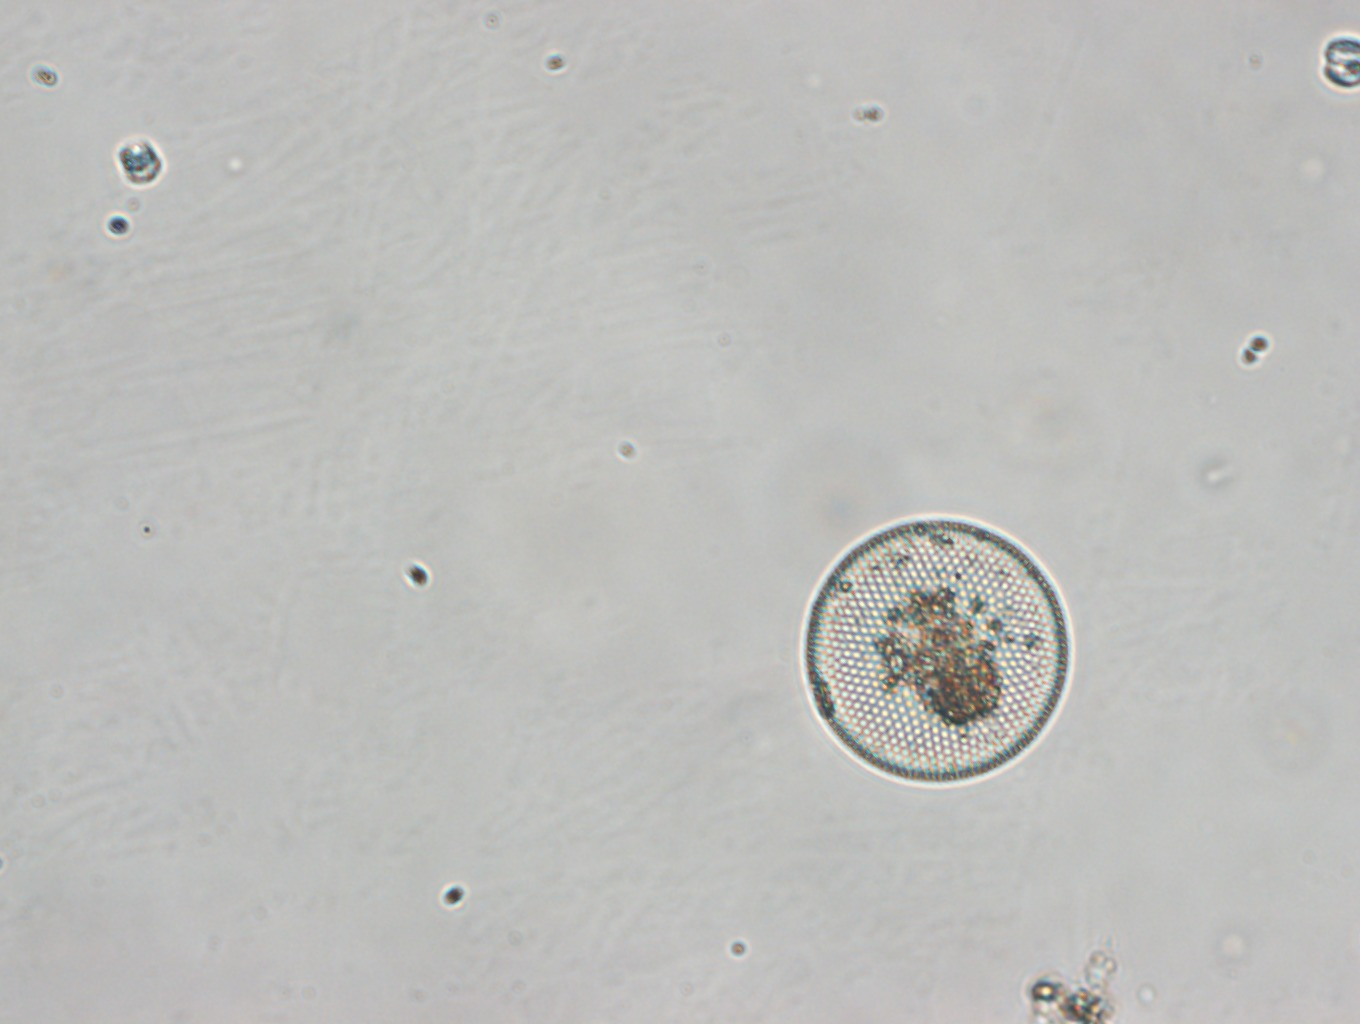coscinodiscus: (805, 515, 1072, 788)
